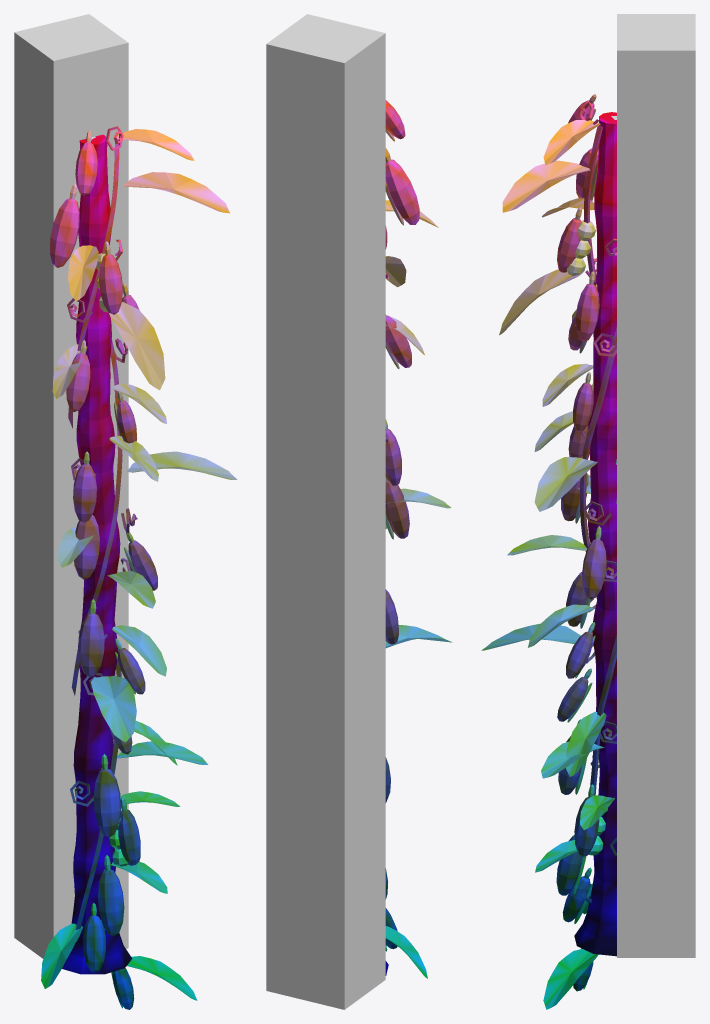
The model's file is Plant_Ladder_04.fbx.
3 renders of one model, left to right at view 1: azimuth 30°, elevation 25°; view 2: azimuth 150°, elevation 25°; view 3: azimuth 270°, elevation 25°, orthographic. The views are drawn at different scales.
Visible parts, largest first — view 1: CLIMB_0, Plant_Ladder_04; view 2: CLIMB_0, Plant_Ladder_04; view 3: CLIMB_0, Plant_Ladder_04.
Boxes of the visible parts, x1=… form: CLIMB_0: x1=14, y1=14, x2=128, y2=958; Plant_Ladder_04: x1=41, y1=126, x2=237, y2=1009; CLIMB_0: x1=266, y1=14, x2=385, y2=1009; Plant_Ladder_04: x1=385, y1=100, x2=452, y2=978; CLIMB_0: x1=617, y1=14, x2=695, y2=957; Plant_Ladder_04: x1=481, y1=94, x2=616, y2=1009.
Size of the model in its own units: 2.54 by 13.3 by 2.72.
